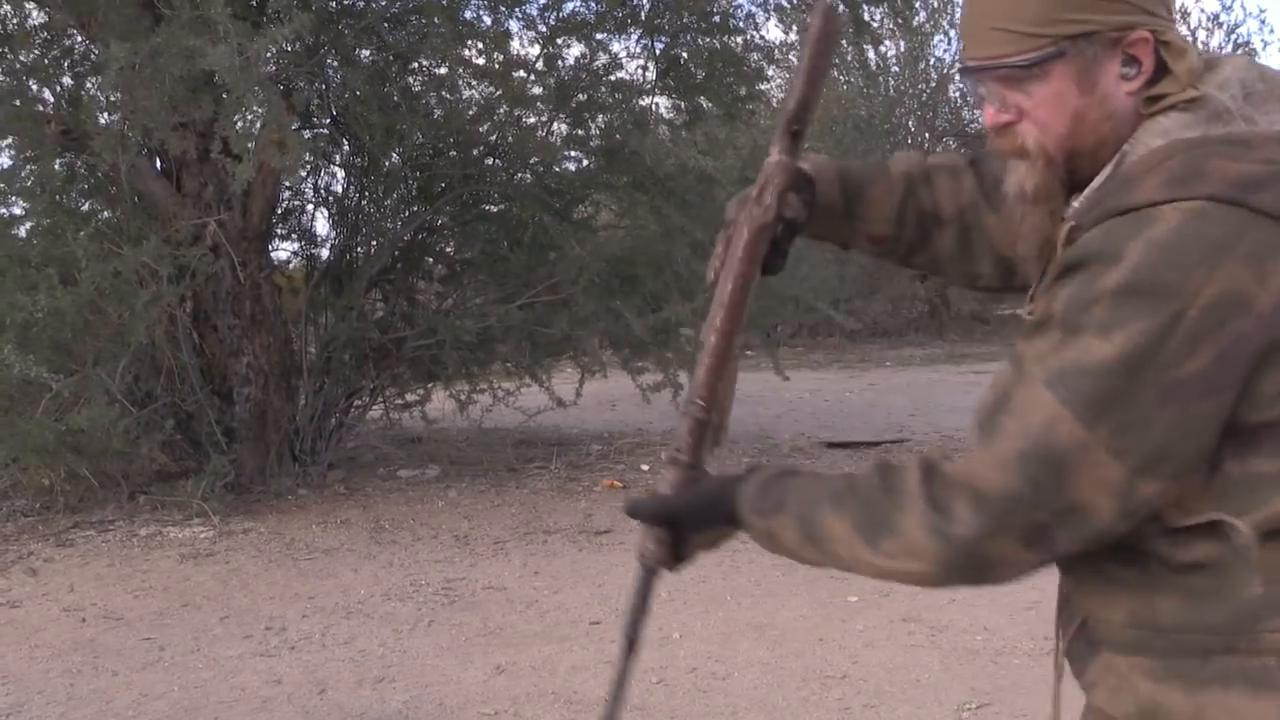AK47 Rifle: (605, 1, 836, 720)
